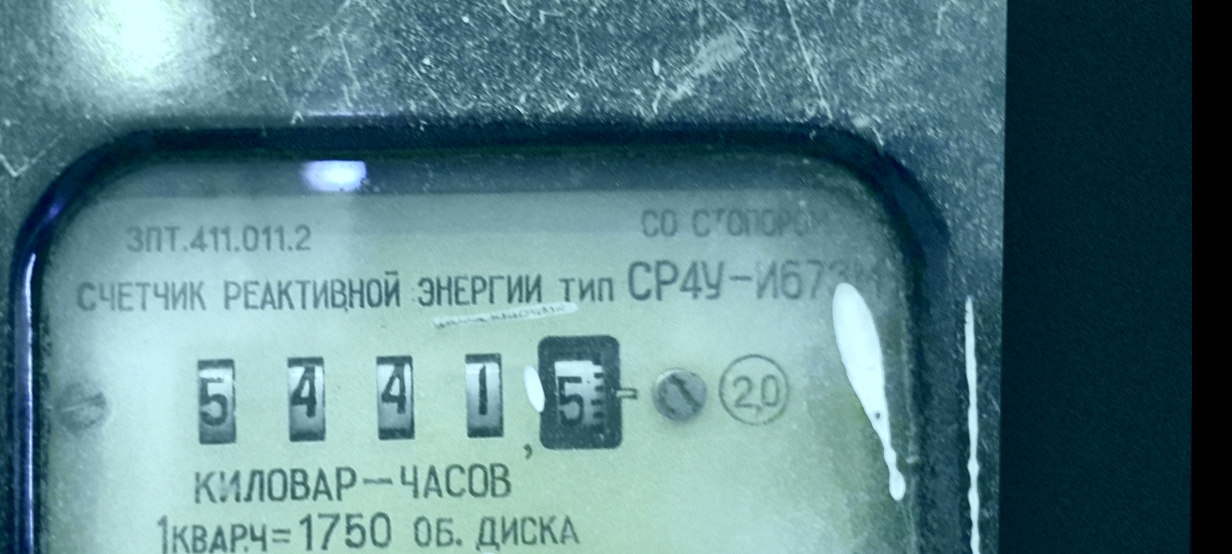1: (468, 362, 492, 420)
4: (373, 357, 411, 423), (285, 361, 321, 423)
5: (551, 369, 587, 433), (192, 373, 231, 430)
screen: (170, 307, 645, 480)
